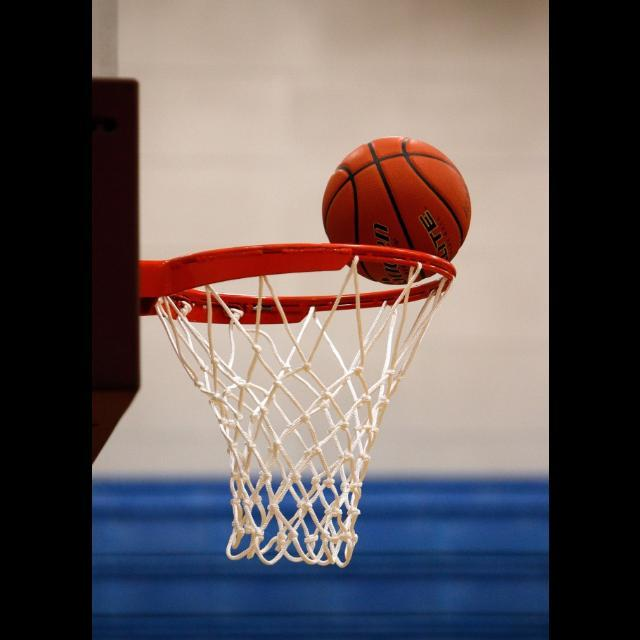basketball: (322, 138, 470, 286)
rim: (156, 242, 452, 566)
